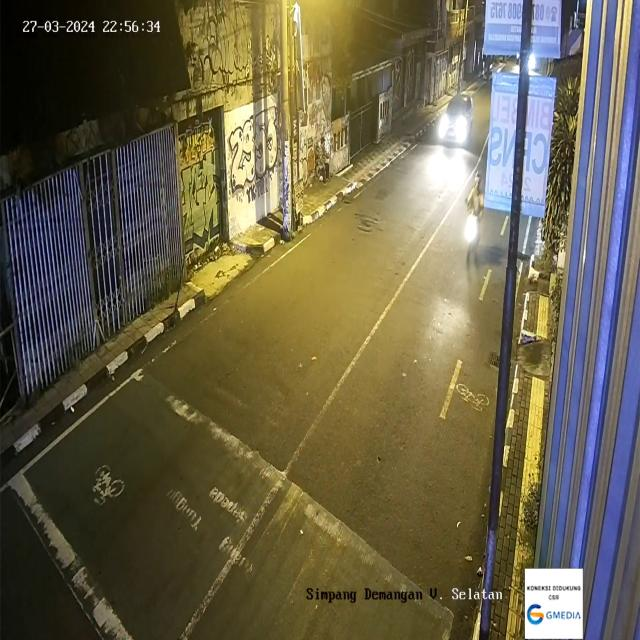car: (442, 94, 474, 150)
motorcycle: (464, 172, 484, 258)
